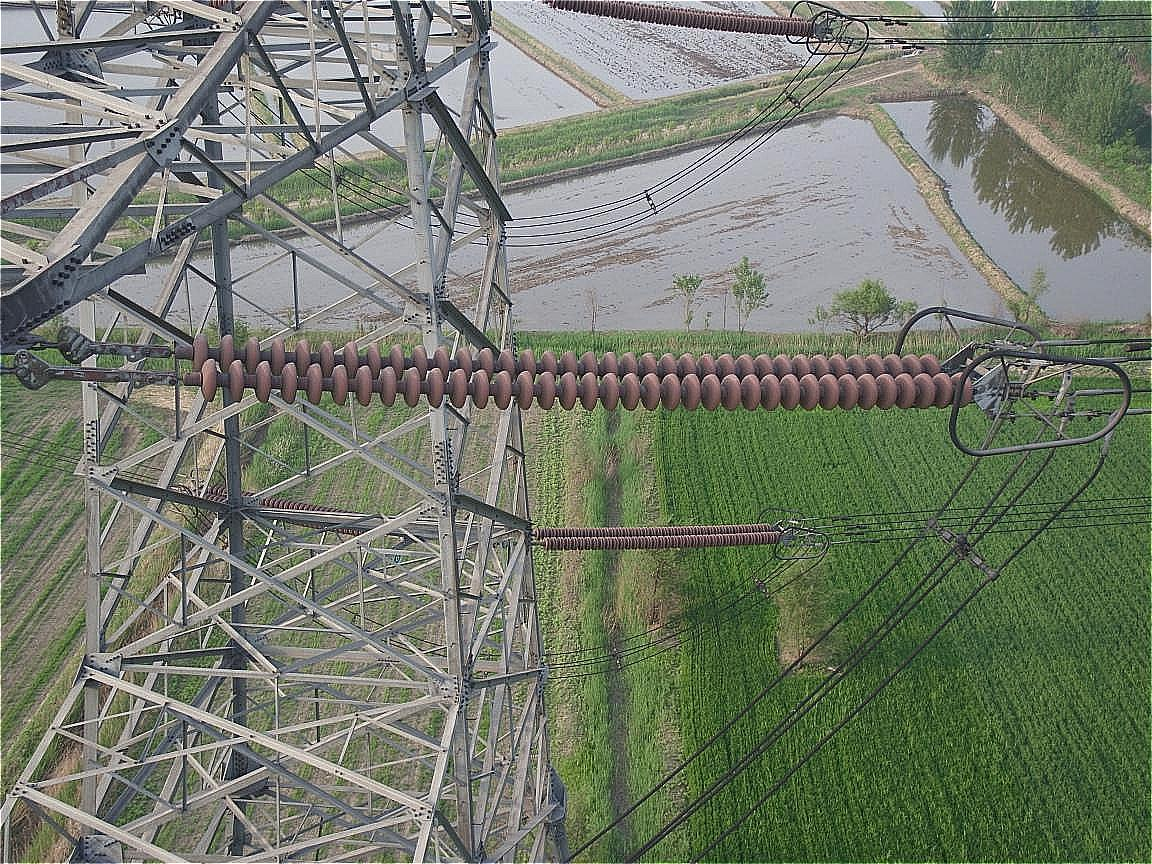insultor1: (194, 335, 977, 408)
insultor2: (547, 2, 818, 38), (536, 522, 783, 550)
